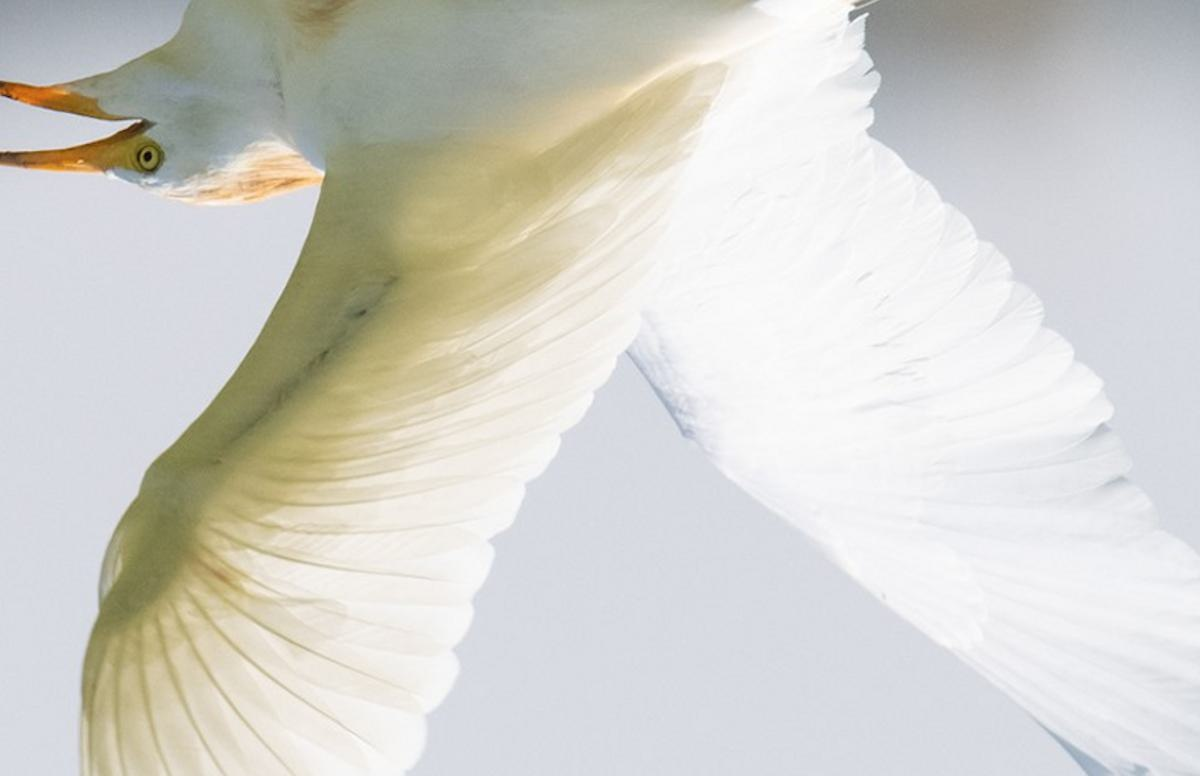egret: (1, 1, 1164, 771)
